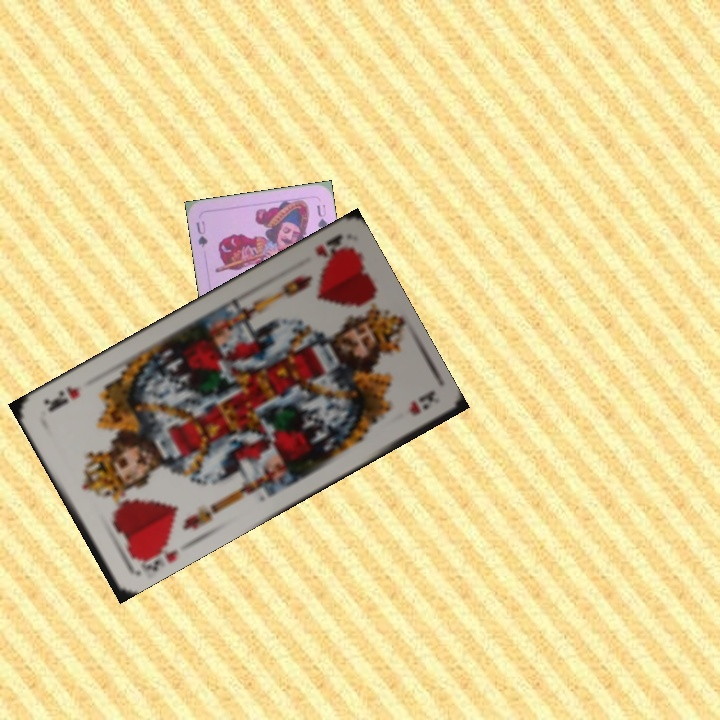GU: (192, 217, 210, 250)
HK: (126, 534, 181, 579), (311, 230, 350, 266)
